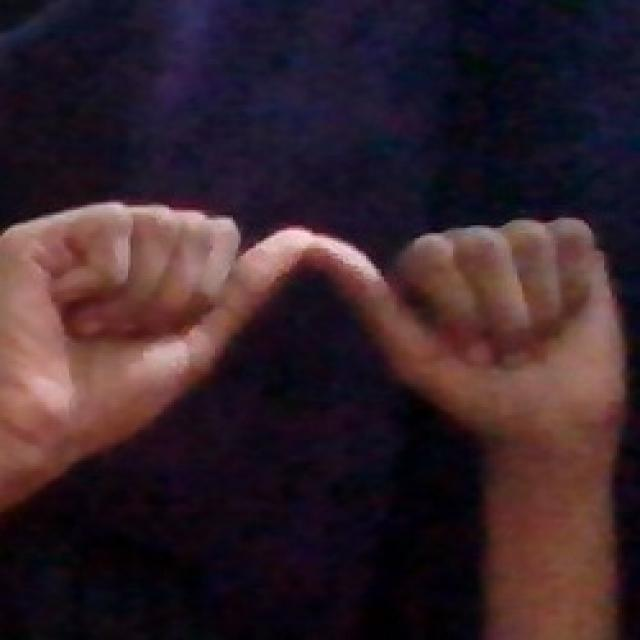Alphabet-A: (15, 200, 620, 450)
